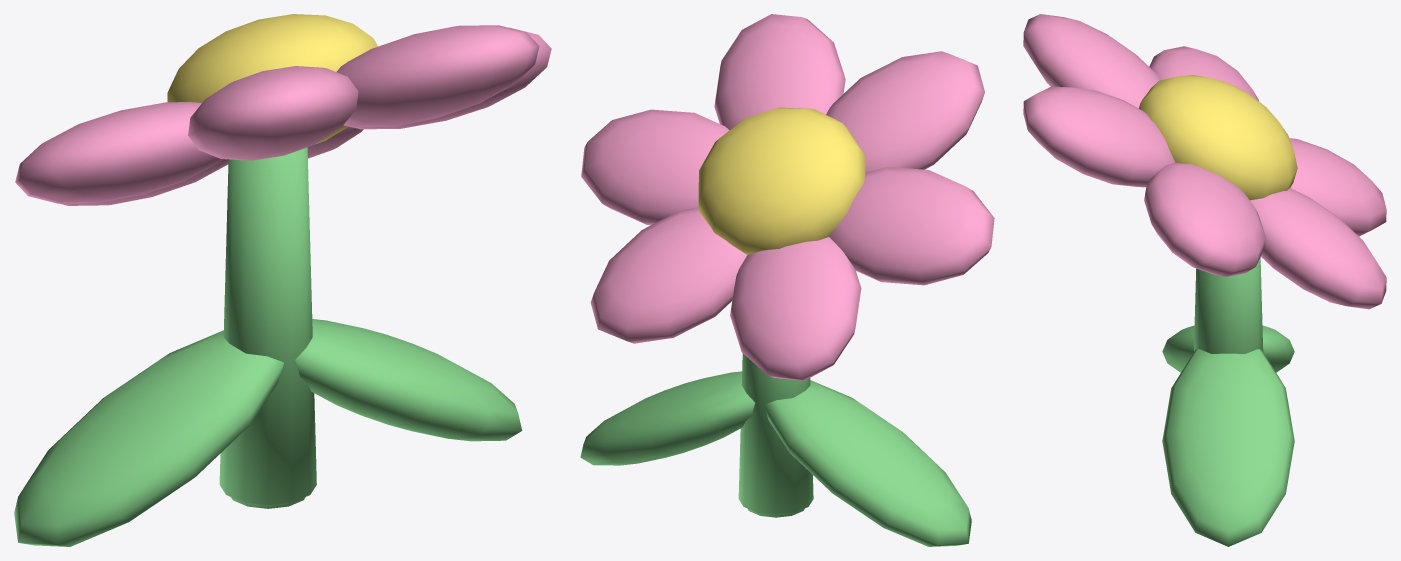
The model's file is flower_daisy_pink.glb.
3 renders of one model, left to right at view 1: azimuth 30°, elevation 25°; view 2: azimuth 150°, elevation 25°; view 3: azimuth 270°, elevation 25°, orthographic. The views are drawn at different scales.
Parts seen in each view (by area): view 1: Leaf_-1, Stem, Leaf_1, Petal_5, Petal_3, Petal_4, ButtonCenter, Petal_0, Petal_2, Petal_1; view 2: ButtonCenter, Leaf_-1, Petal_2, Petal_3, Petal_1, Petal_4, Petal_0, Petal_5, Leaf_1, Stem; view 3: Leaf_1, ButtonCenter, Petal_5, Petal_0, Petal_1, Petal_4, Stem, Petal_2, Petal_3, Leaf_-1.
Part boxes in pixels (bbox=[...]): Leaf_-1: bbox=[14, 330, 283, 546]; Stem: bbox=[219, 147, 316, 508]; Leaf_1: bbox=[295, 319, 522, 441]; Petal_5: bbox=[336, 25, 539, 127]; Petal_3: bbox=[15, 102, 223, 203]; Petal_4: bbox=[188, 66, 358, 160]; ButtonCenter: bbox=[167, 14, 377, 144]; Petal_0: bbox=[353, 27, 551, 129]; Petal_2: bbox=[59, 159, 228, 205]; Petal_1: bbox=[307, 126, 363, 158]; ButtonCenter: bbox=[698, 107, 865, 254]; Leaf_-1: bbox=[764, 380, 971, 546]; Petal_2: bbox=[730, 237, 861, 380]; Petal_3: bbox=[829, 167, 994, 285]; Petal_1: bbox=[590, 207, 747, 343]; Petal_4: bbox=[826, 51, 984, 172]; Petal_0: bbox=[581, 109, 729, 225]; Petal_5: bbox=[714, 14, 845, 130]; Leaf_1: bbox=[580, 371, 754, 465]; Stem: bbox=[738, 353, 813, 517]; Leaf_1: bbox=[1162, 349, 1294, 546]; ButtonCenter: bbox=[1138, 75, 1297, 200]; Petal_5: bbox=[1023, 86, 1175, 187]; Petal_0: bbox=[1144, 162, 1265, 276]; Petal_1: bbox=[1250, 188, 1386, 309]; Petal_4: bbox=[1023, 14, 1161, 108]; Stem: bbox=[1194, 257, 1263, 353]; Petal_2: bbox=[1289, 138, 1386, 236]; Petal_3: bbox=[1149, 46, 1258, 101]; Leaf_-1: bbox=[1162, 325, 1294, 372].
Size of the model in its own units: 0.4 by 0.3754 by 0.3086.
